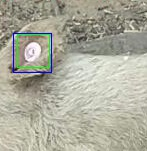text: (17, 34, 49, 67)
